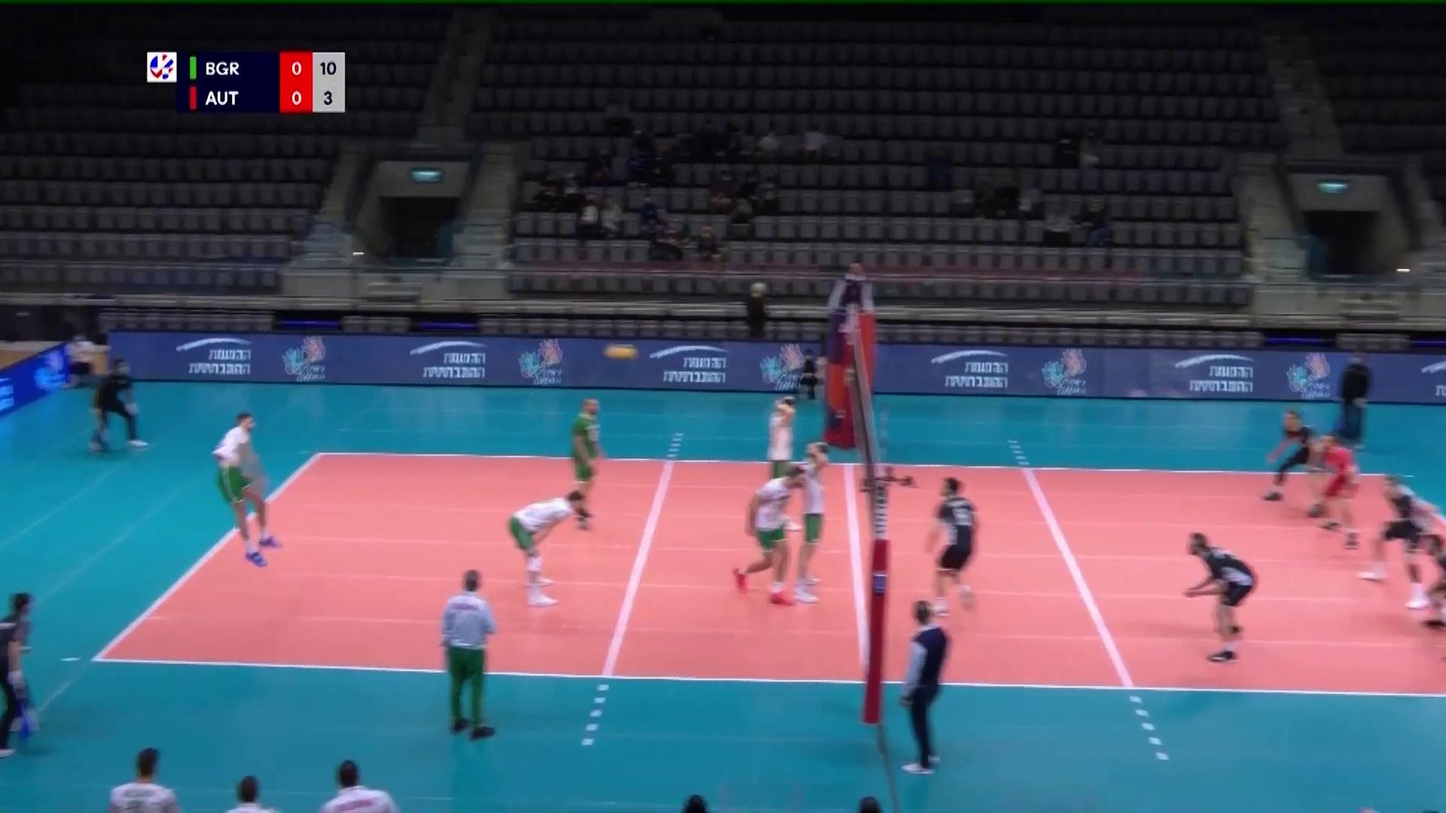ball: (603, 344, 641, 361)
